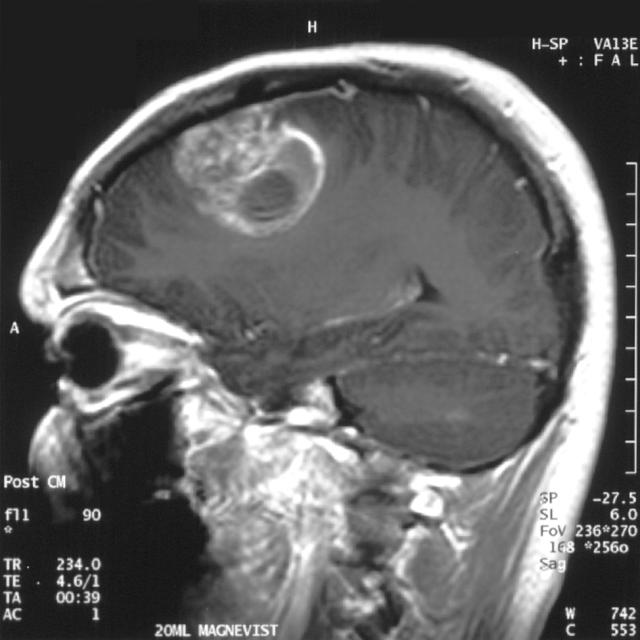Tumor: (162, 121, 332, 236)
